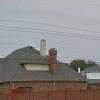Chimney: (36, 34, 61, 77)
